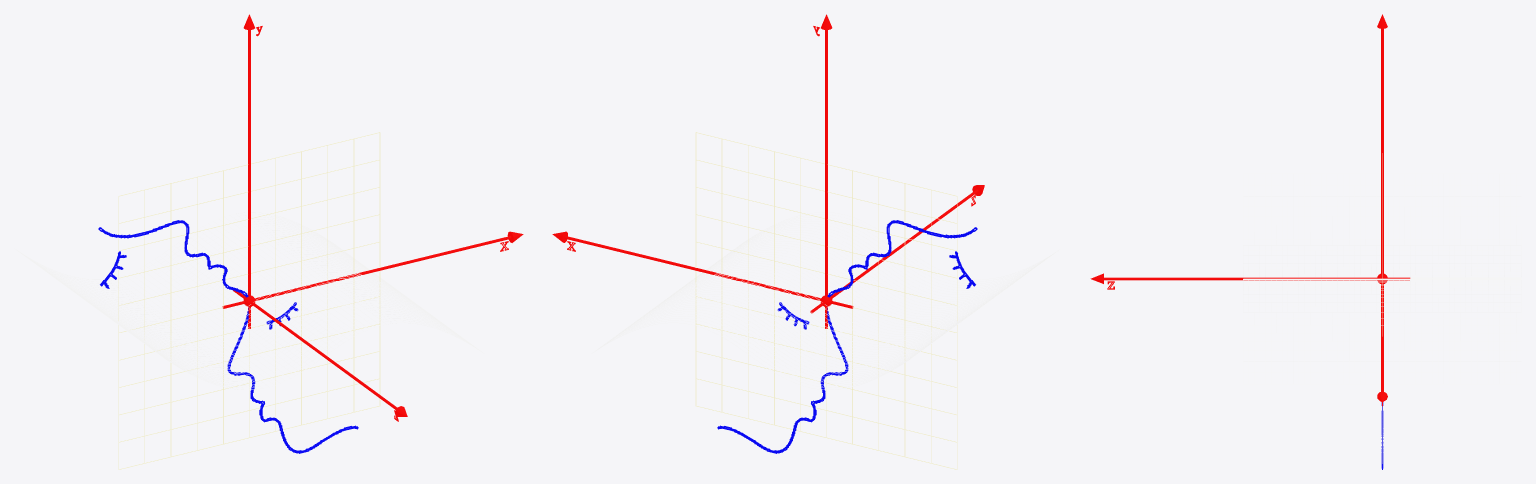
3 renders of one model, left to right at view 1: azimuth 30°, elevation 25°; view 2: azimuth 150°, elevation 25°; view 3: azimuth 270°, elevation 25°, orthographic. The views are drawn at different scales.
Size of the model in its own units: 1.66 by 1.65 by 1.55.
